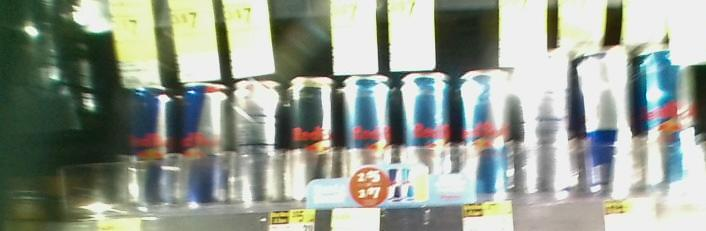bottle: (639, 45, 696, 203), (577, 50, 634, 196), (457, 63, 513, 203), (521, 50, 572, 201), (395, 68, 449, 210), (288, 65, 339, 214), (343, 70, 393, 209), (177, 78, 227, 213), (233, 74, 284, 205), (123, 83, 172, 210)
